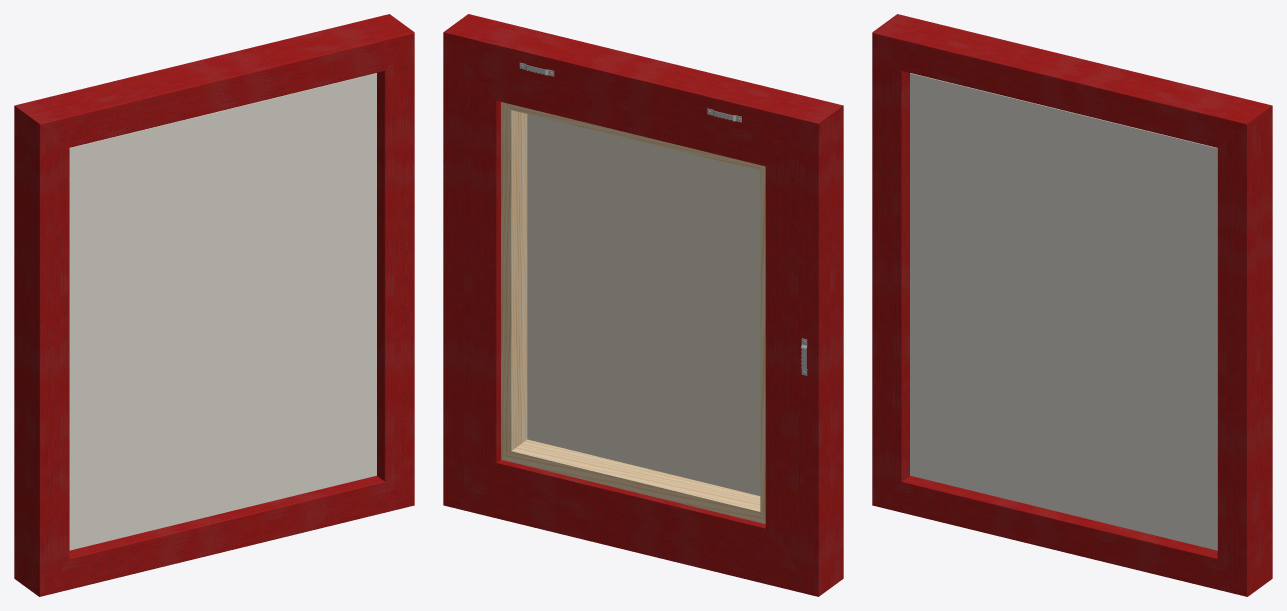
File: decoded-from-delivery.glb
3 renders of one model, left to right at view 1: azimuth 30°, elevation 25°; view 2: azimuth 150°, elevation 25°; view 3: azimuth 330°, elevation 25°, orthographic.
Parts seen in each view (by area): view 1: Canvas artwork front, Tray approved profile 0; view 2: Tray approved profile 0, Canvas linen reverse, Stretcher top, Sawtooth hanger 0; view 3: Canvas artwork front, Tray approved profile 0.
Part boxes in pixels (x1,y1,x2,y2): Canvas artwork front: (69, 73, 376, 550); Tray approved profile 0: (14, 14, 414, 596); Tray approved profile 0: (443, 14, 843, 596); Canvas linen reverse: (527, 114, 760, 495); Stretcher top: (501, 102, 765, 523); Sawtooth hanger 0: (519, 62, 807, 375); Canvas artwork front: (910, 73, 1217, 550); Tray approved profile 0: (872, 14, 1272, 596).
Bounding box in the file's own units: 0.488 × 0.588 × 0.0594.
Materials: 7 (3 with a texture image).
